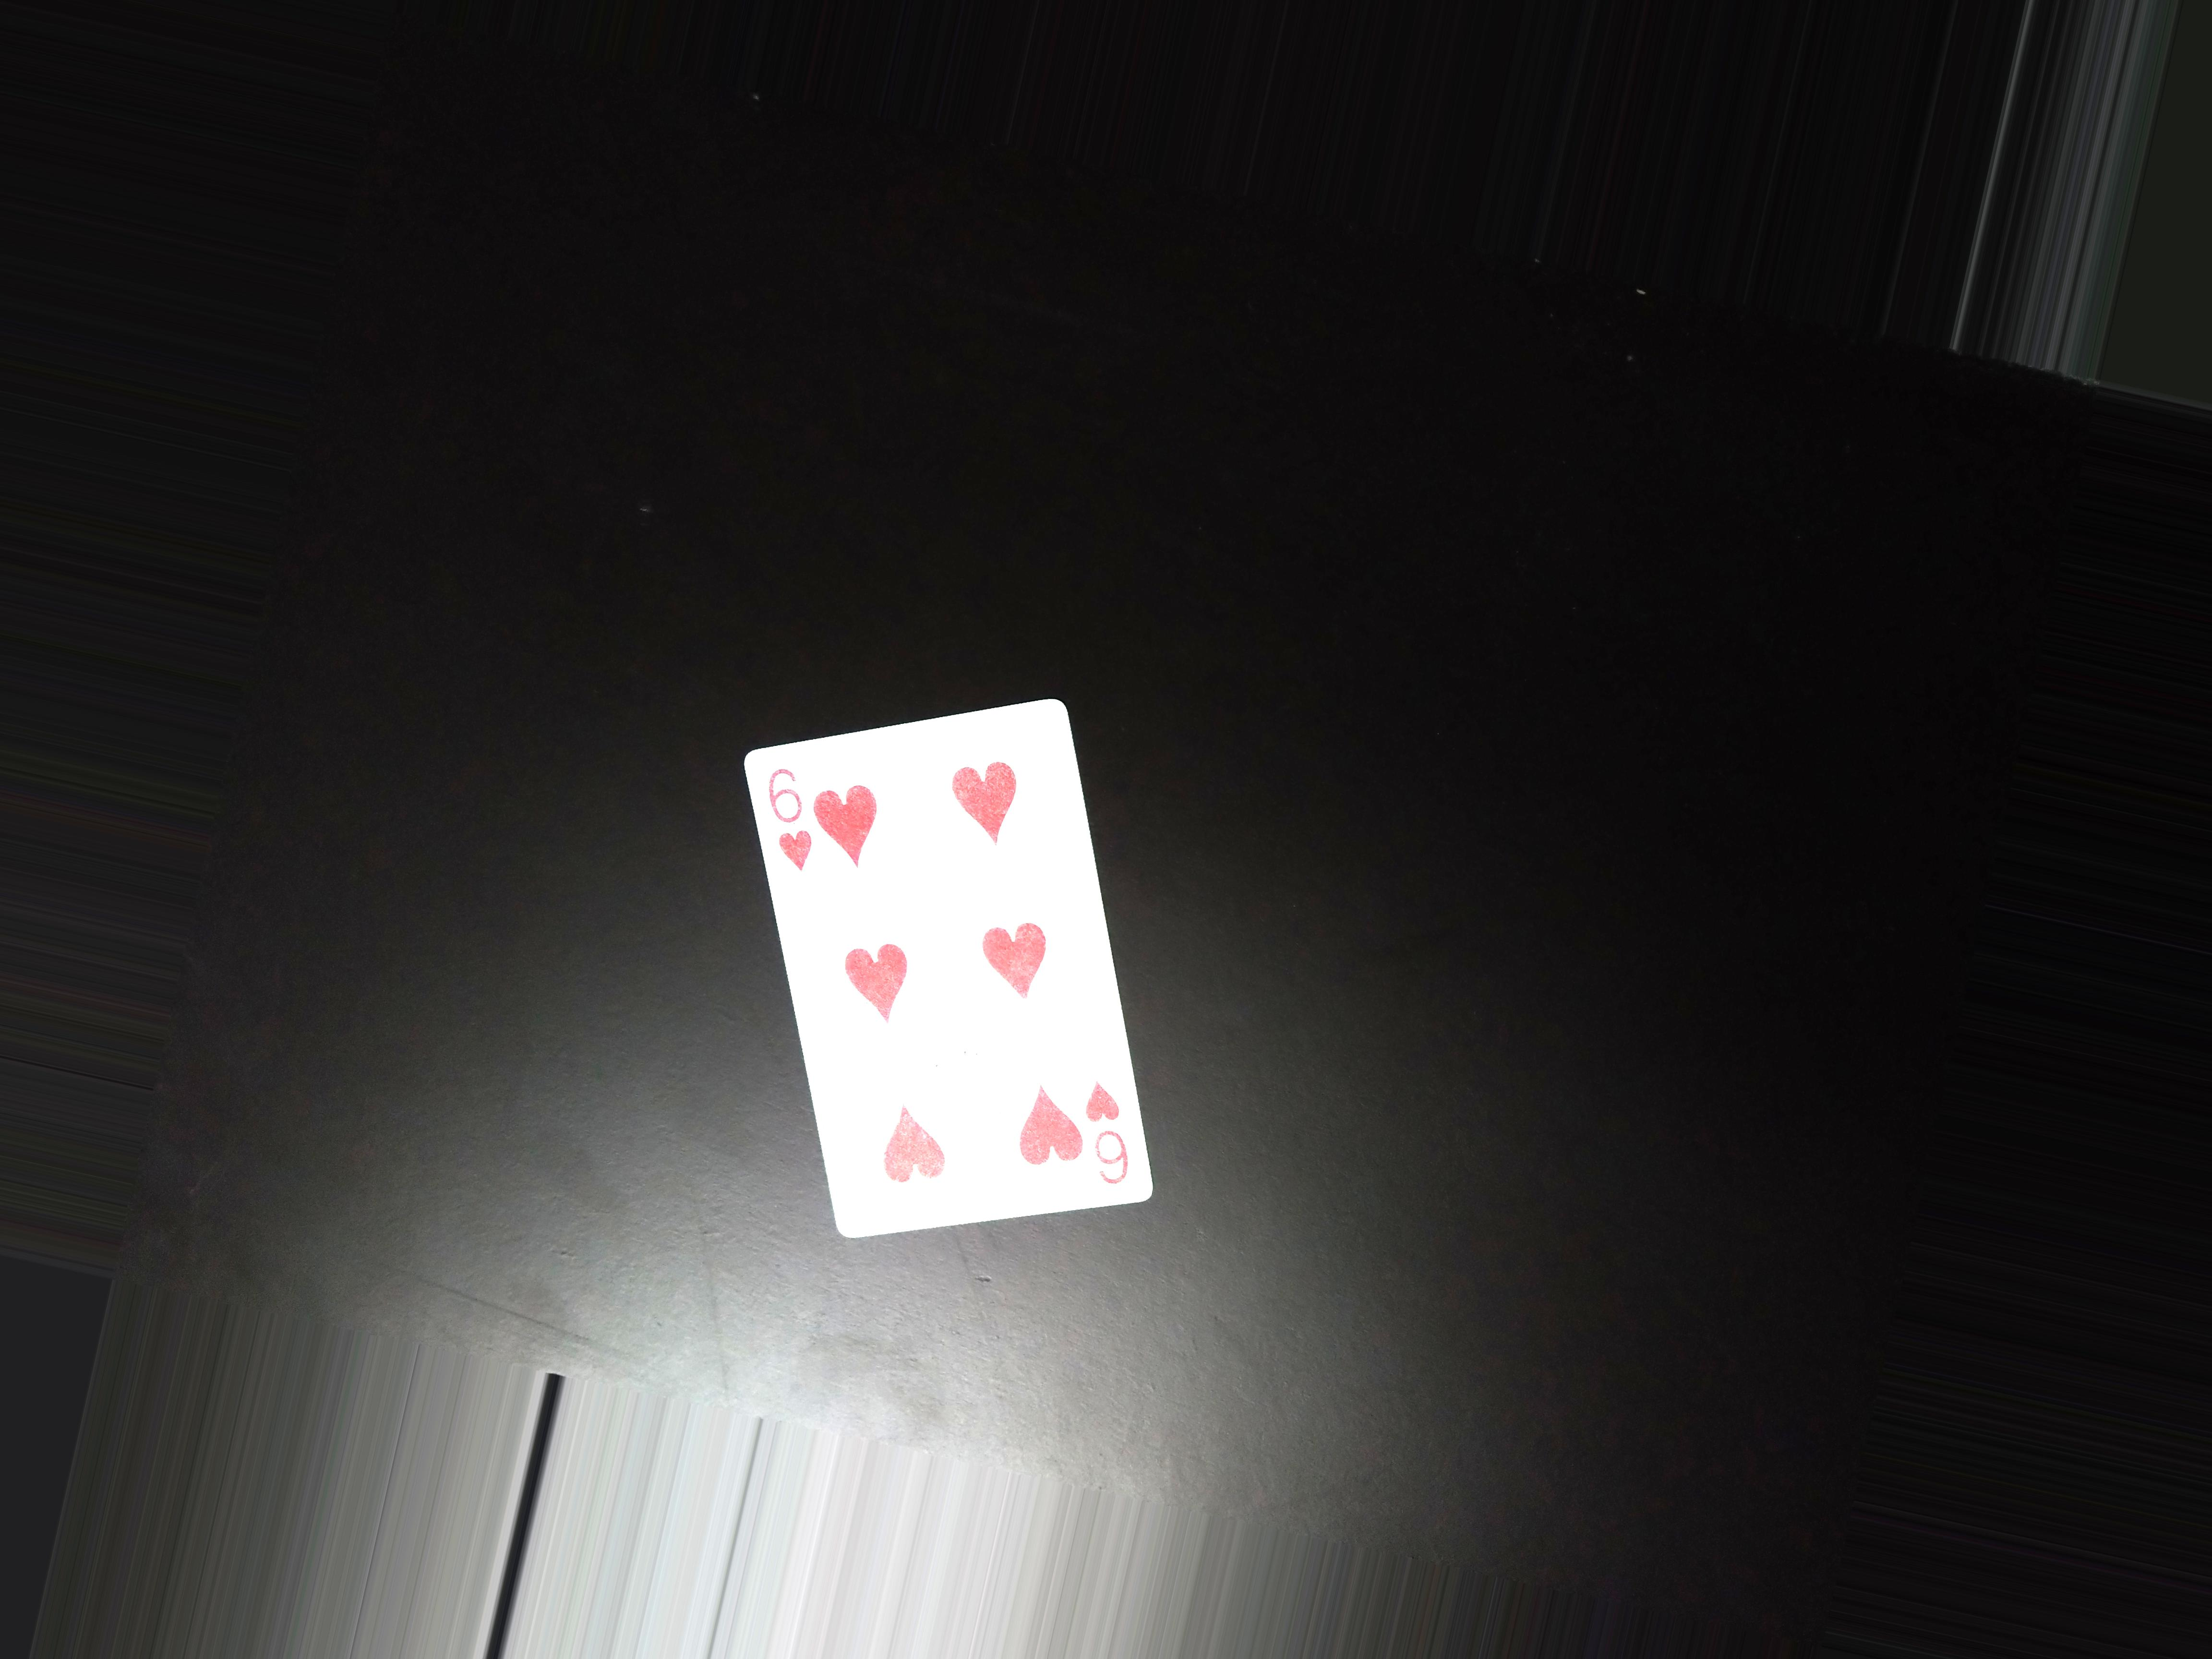6H: (765, 753, 826, 884)
